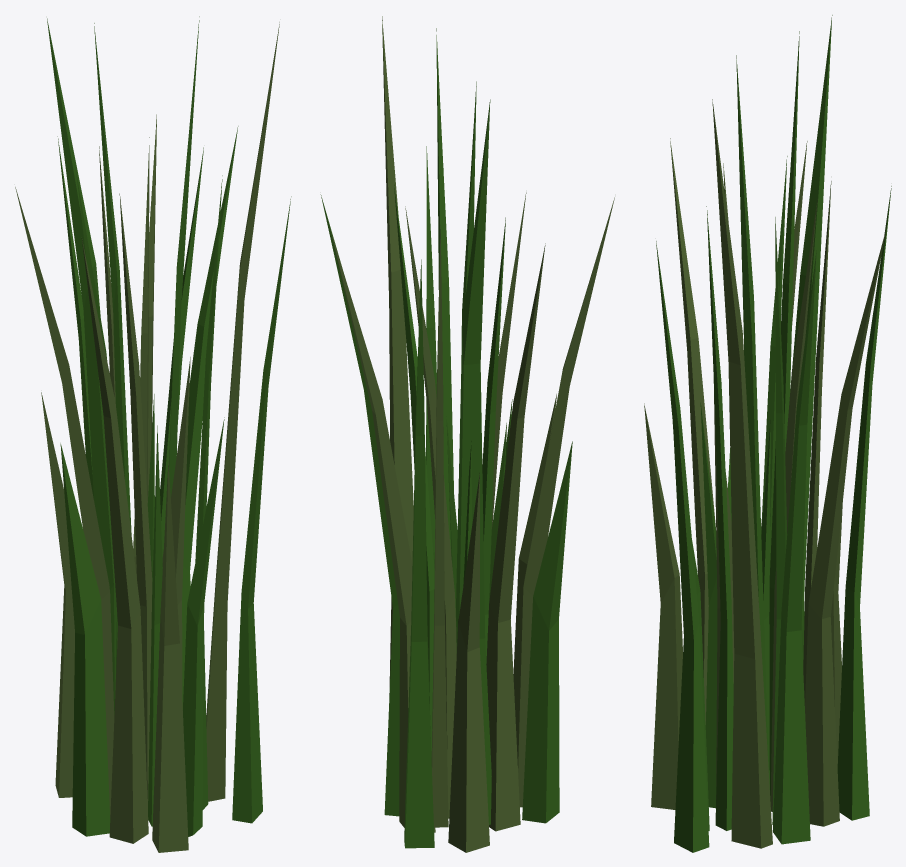
Rendered from High Grass_4.fbx.
3 renders of one model, left to right at view 1: azimuth 30°, elevation 25°; view 2: azimuth 150°, elevation 25°; view 3: azimuth 270°, elevation 25°, orthographic. The views are drawn at different scales.
Visible parts, largest first — view 1: High Grass_4; view 2: High Grass_4; view 3: High Grass_4.
Part boxes in pixels (x1,y1,x2,y2): High Grass_4: (15, 16, 291, 852); High Grass_4: (320, 16, 614, 852); High Grass_4: (644, 15, 891, 852).
Bounding box in the file's own units: 0.9388 × 3.12 × 0.8827.
